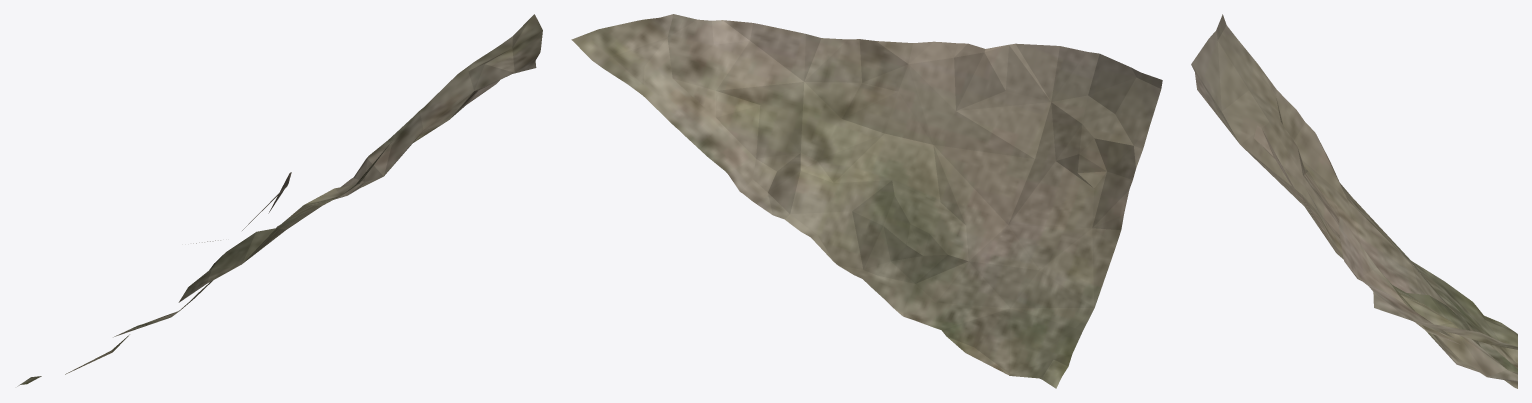
The picture shows the model from 3 angles, left to right: view 1: azimuth 30°, elevation 25°; view 2: azimuth 150°, elevation 25°; view 3: azimuth 270°, elevation 25°; orthographic projection. The views are drawn at different scales.
Size of the model in its own units: 4.72 by 2.15 by 1.99.
1 material, 1 textured.
